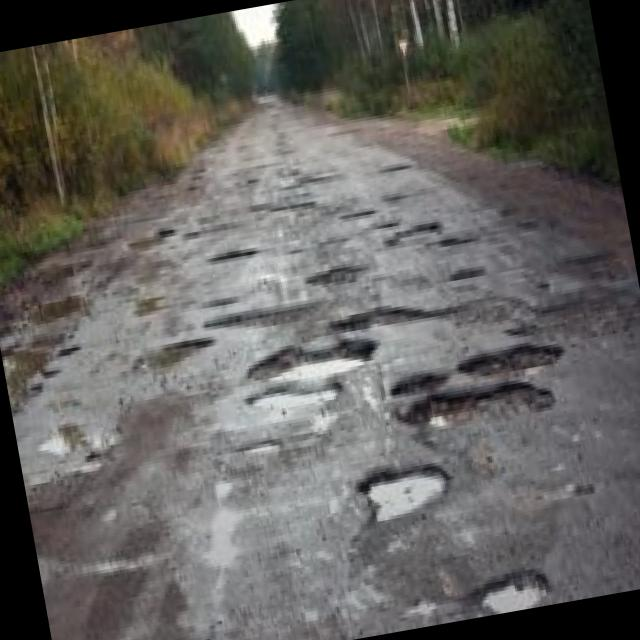Potholes: (384, 331, 578, 451), (242, 329, 391, 430), (350, 444, 473, 540), (444, 538, 566, 621), (322, 278, 460, 350), (200, 292, 314, 344), (380, 212, 487, 264), (123, 336, 217, 382), (252, 182, 324, 229), (202, 230, 264, 274), (130, 211, 179, 255), (309, 256, 359, 291), (332, 200, 388, 226), (287, 164, 328, 192), (444, 265, 496, 287), (375, 159, 420, 180)
